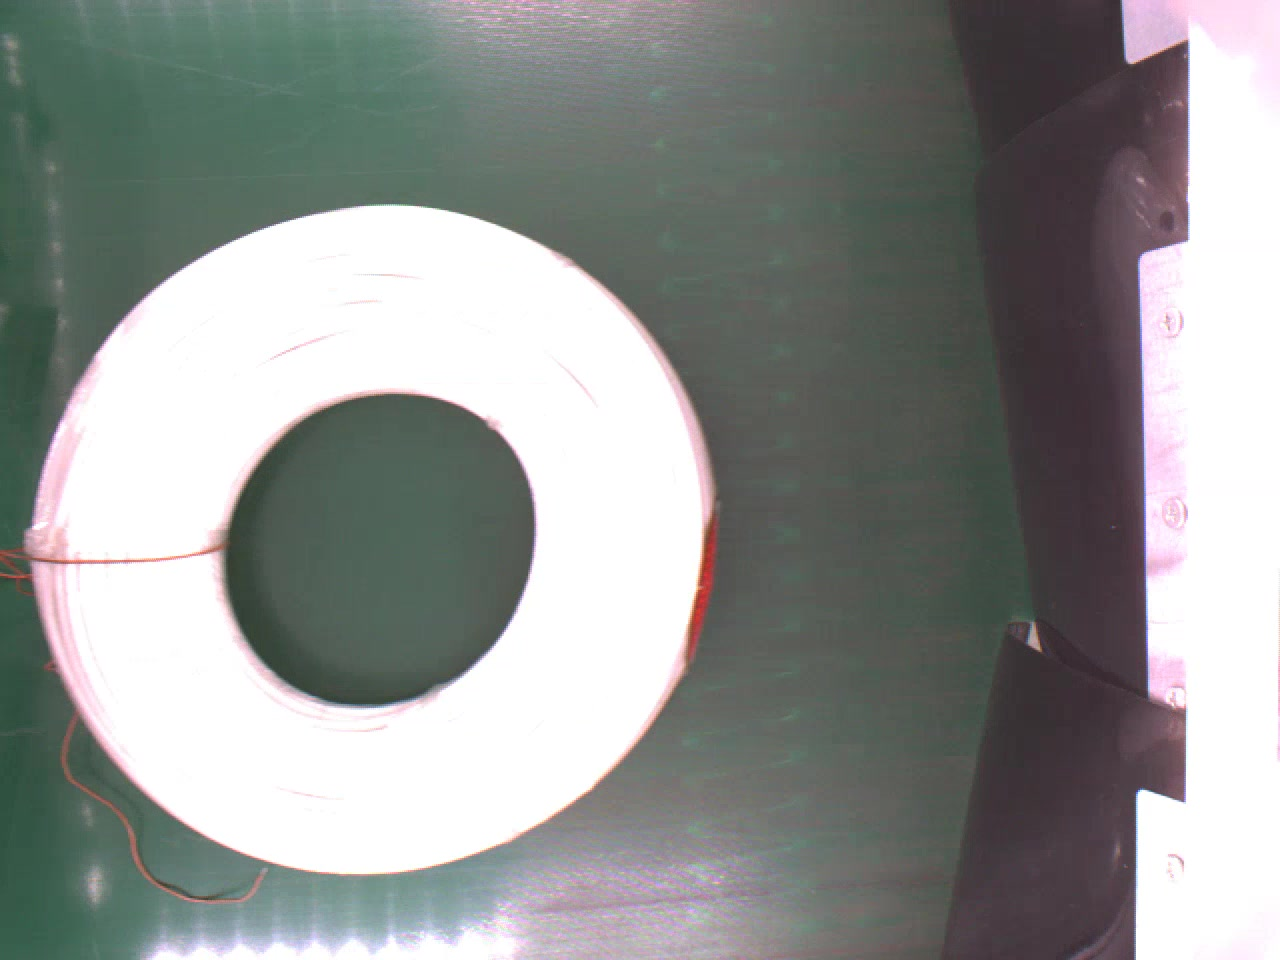white: (27, 200, 722, 871)
